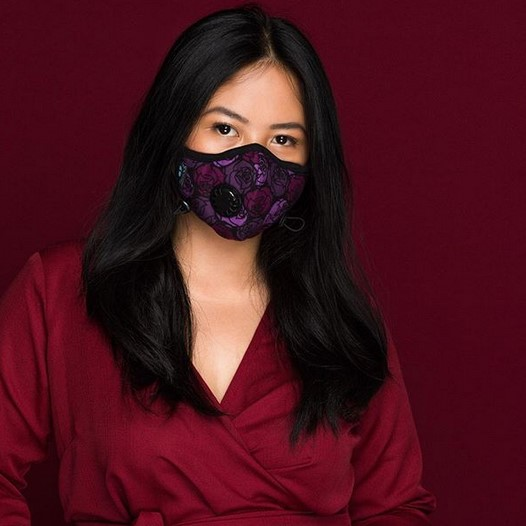face_with_mask: (144, 19, 343, 243)
